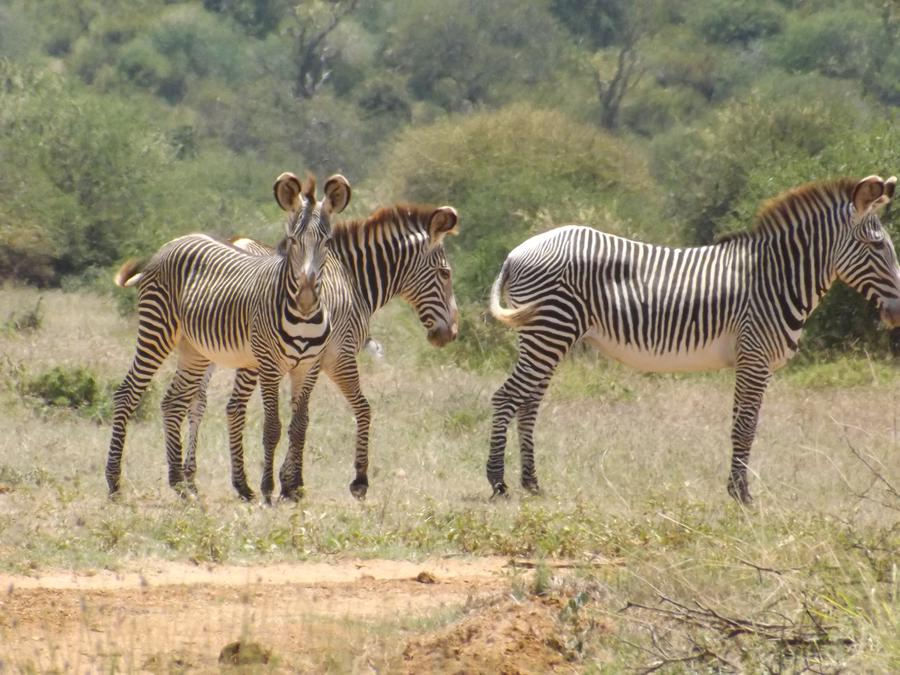zebra_grevys: (511, 213, 781, 365)
